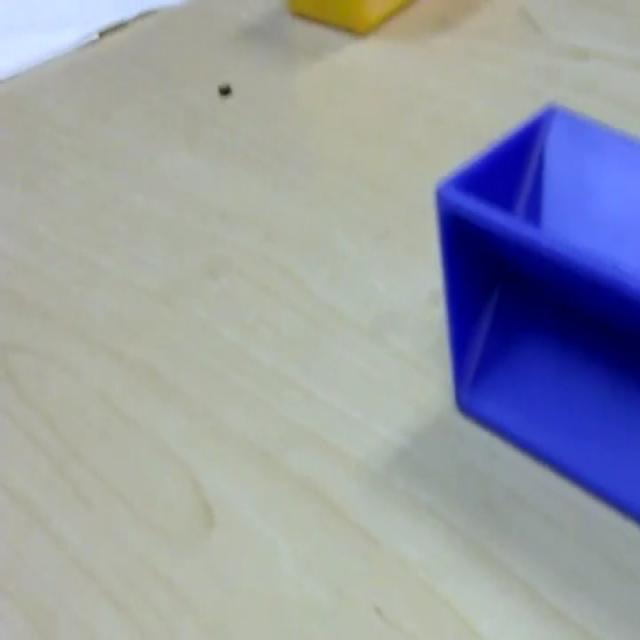blue_block: (433, 99, 638, 525)
yellow_block: (286, 0, 414, 36)
